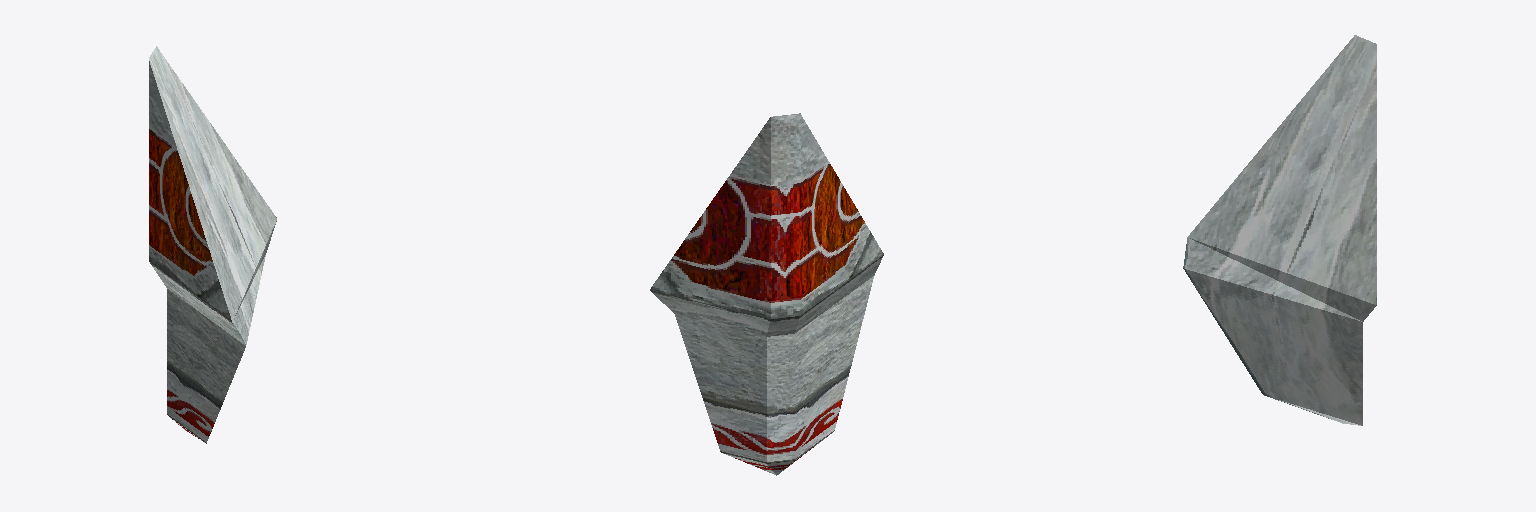
3 views of the same model, side by side, from view 1: azimuth 30°, elevation 25°; view 2: azimuth 150°, elevation 25°; view 3: azimuth 270°, elevation 25° (orthographic).
Size of the model in its own units: 14.78 by 37.78 by 17.72.
2 materials, 2 textured.